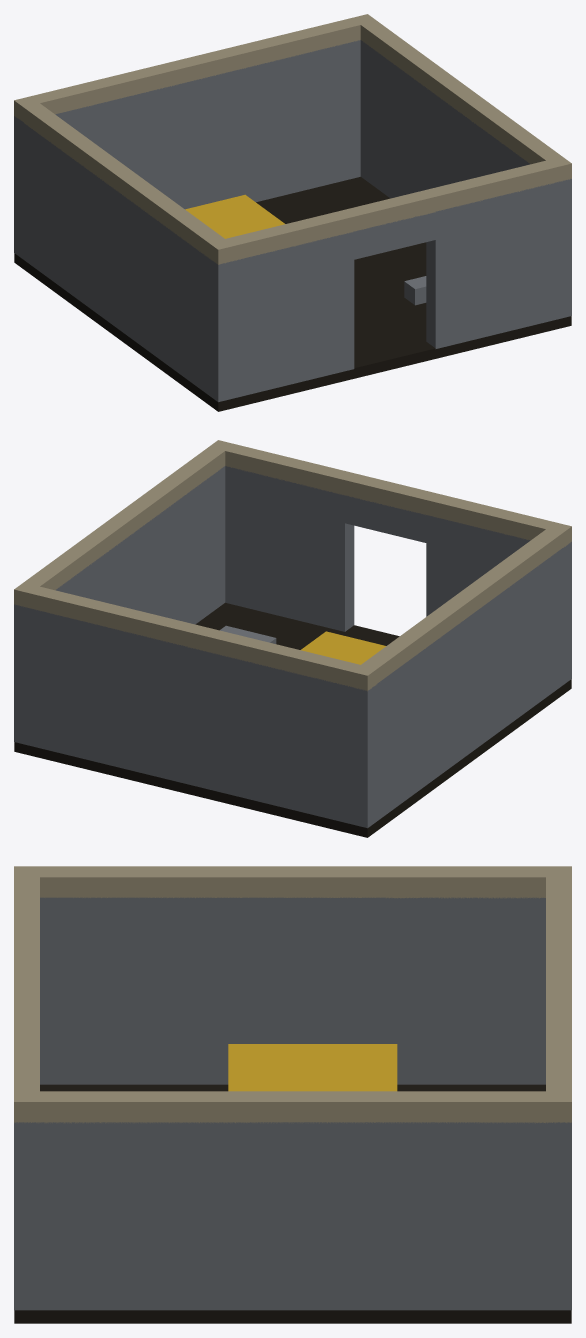
The model's file is RoyalBedchamber.fbx.
The picture shows the model from 3 angles, top to bottom: view 1: azimuth 30°, elevation 25°; view 2: azimuth 150°, elevation 25°; view 3: azimuth 270°, elevation 25°; orthographic projection. The views are drawn at different scales.
Visible parts, largest first — view 1: RoyalBedchamber; view 2: RoyalBedchamber; view 3: RoyalBedchamber.
Boxes of the visible parts, x1,y1,x2,y2 form: RoyalBedchamber: (14, 14, 571, 411); RoyalBedchamber: (14, 440, 571, 837); RoyalBedchamber: (14, 866, 571, 1323).
Bounding box in the file's own units: 1122 × 492 × 1122.
5 materials, 5 textured.
